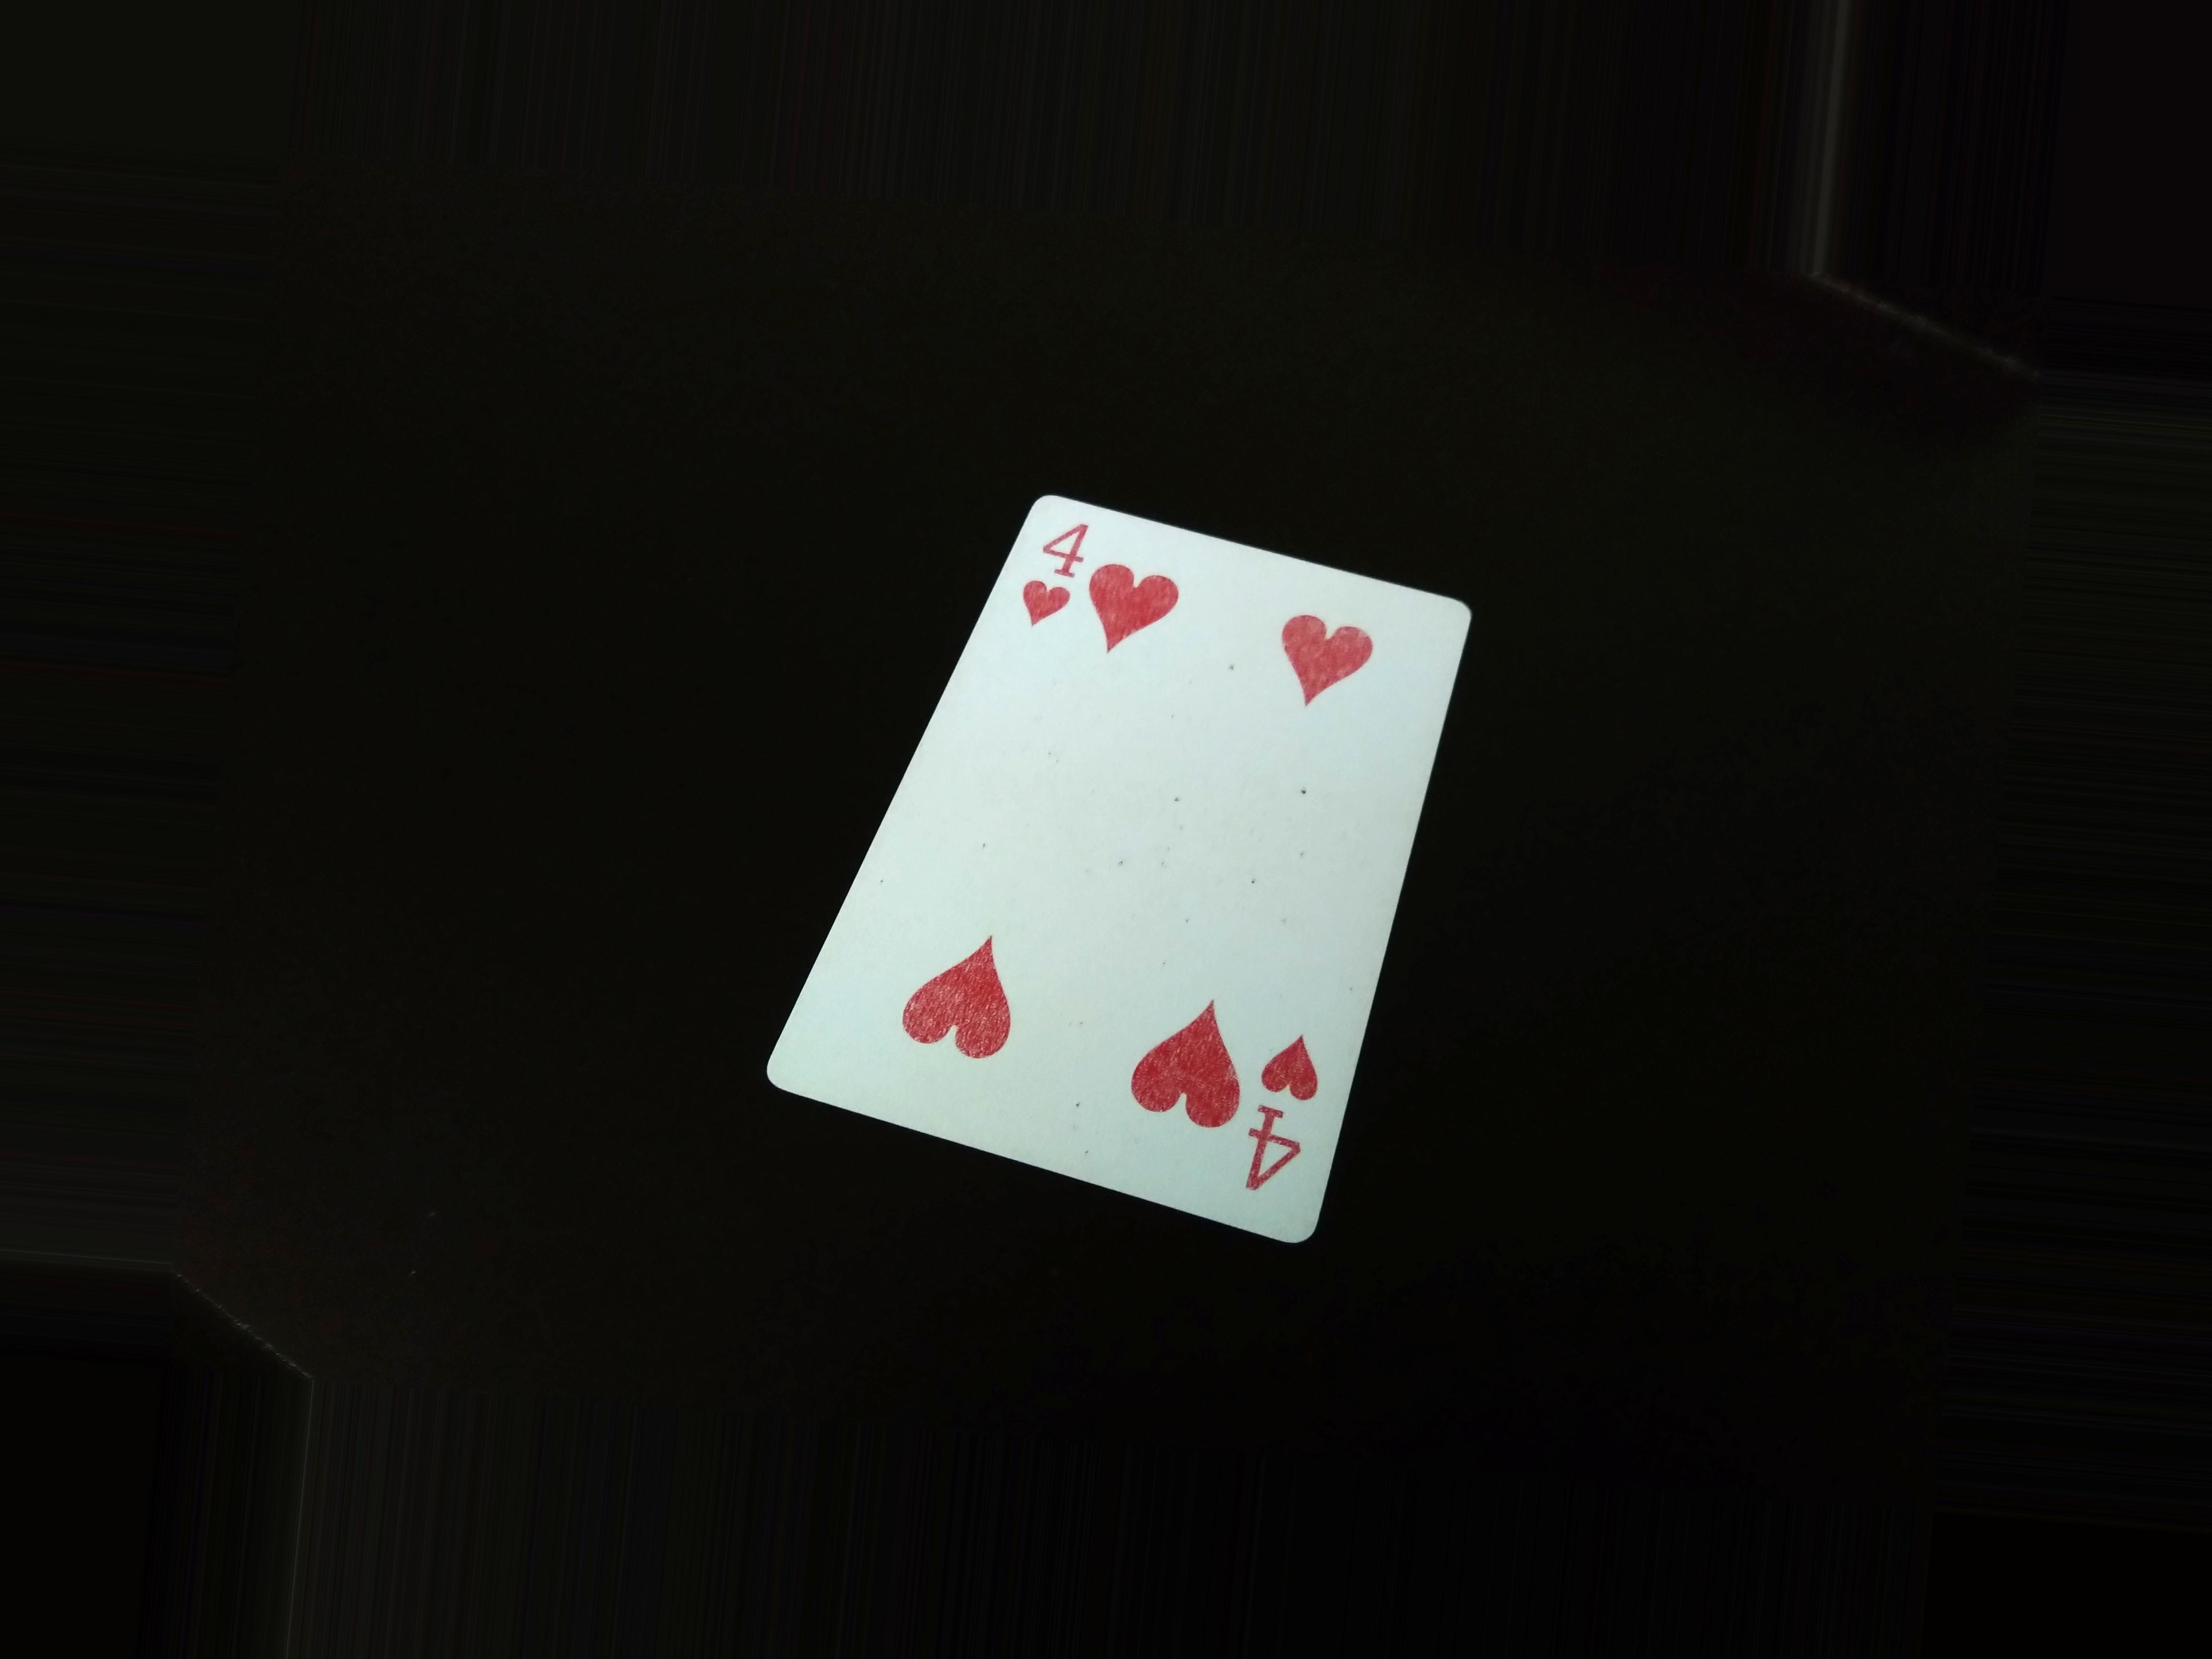4H: (1240, 1012, 1324, 1208)
